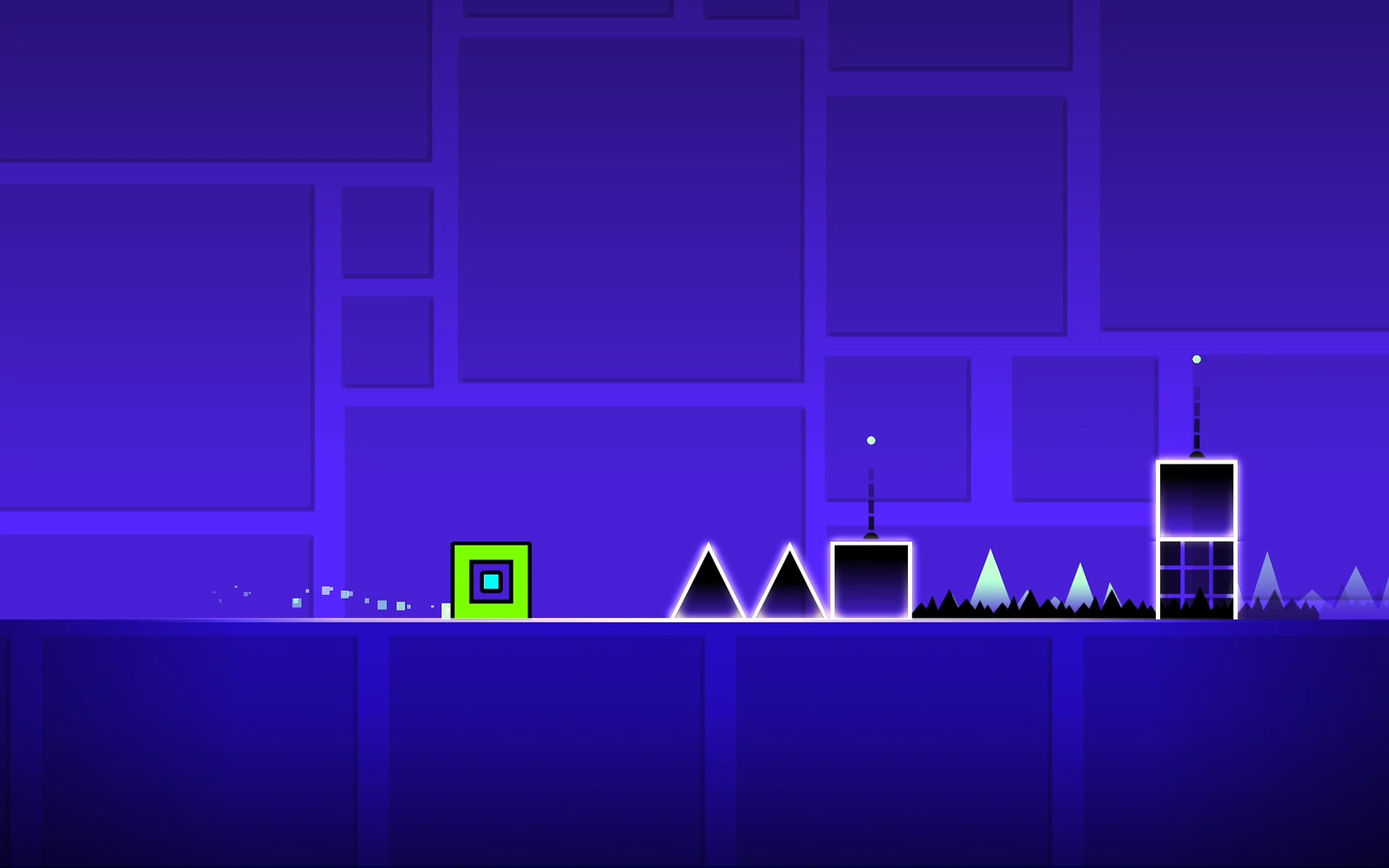Block: (828, 540, 914, 618), (1157, 458, 1237, 537)
Block2: (1157, 538, 1236, 620)
Player: (450, 542, 532, 617)
Spike: (670, 543, 746, 617), (753, 542, 827, 617)
Spike3: (910, 594, 1152, 619), (1330, 566, 1384, 617), (1239, 591, 1319, 617)
